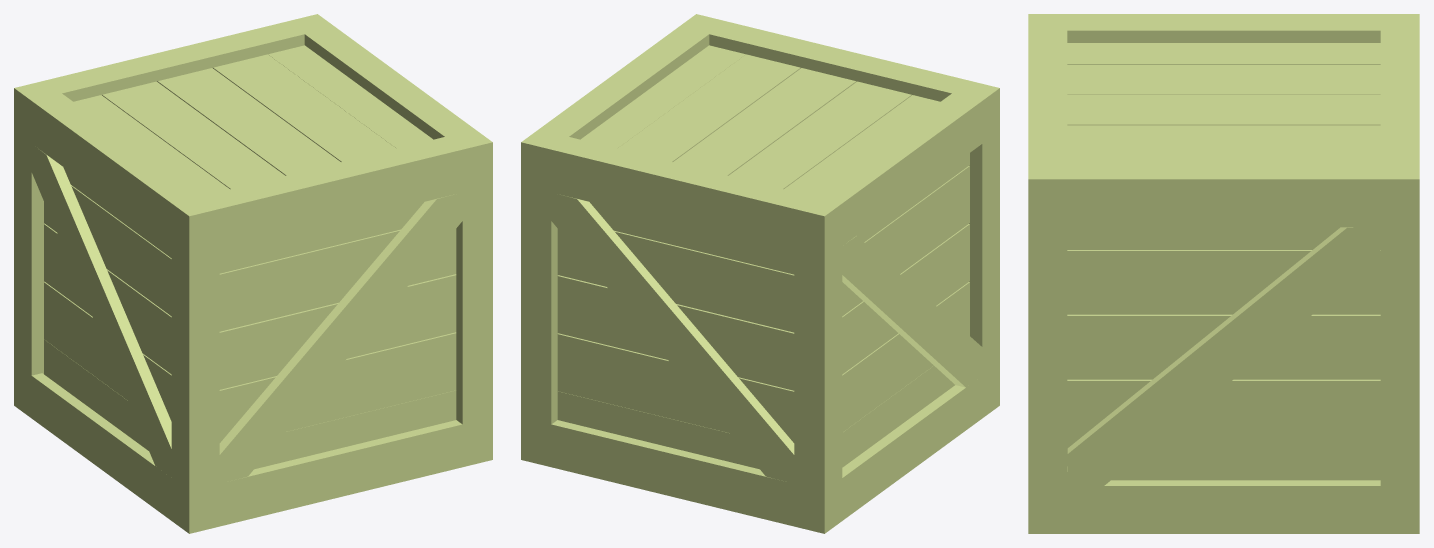
File: Crash_Crate_Whole.FBX
The picture shows the model from 3 angles, left to right: view 1: azimuth 30°, elevation 25°; view 2: azimuth 150°, elevation 25°; view 3: azimuth 270°, elevation 25°; orthographic projection. The views are drawn at different scales.
Visible parts, largest first — view 1: Crash_Crate_Whole001; view 2: Crash_Crate_Whole001; view 3: Crash_Crate_Whole001.
Part boxes in pixels (x1,y1,x2,y2): Crash_Crate_Whole001: (14,14,492,533); Crash_Crate_Whole001: (521,14,999,533); Crash_Crate_Whole001: (1028,14,1419,533).
Size of the model in its own units: 1 by 1 by 1.
